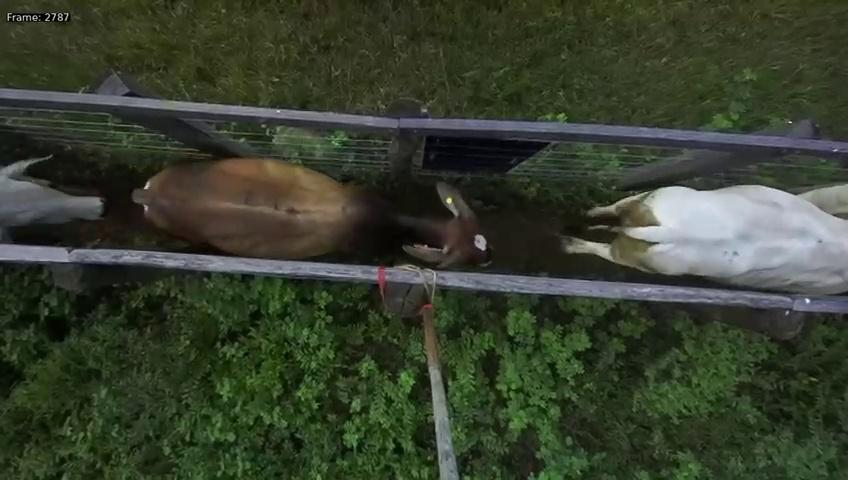cattle: (126, 149, 503, 272), (551, 175, 848, 302)
